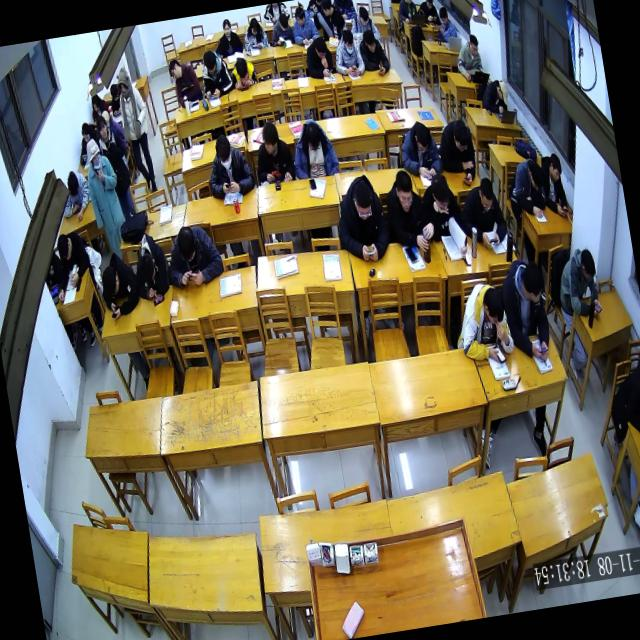bow: (160, 217, 227, 292), (92, 244, 142, 322), (126, 223, 174, 304), (502, 152, 552, 224), (58, 167, 96, 227), (477, 72, 513, 120), (227, 54, 259, 94)
down: (478, 280, 508, 328), (392, 168, 418, 216), (350, 179, 376, 226), (427, 168, 453, 214), (212, 132, 236, 173), (474, 173, 498, 214), (449, 116, 474, 154), (576, 244, 598, 286), (302, 120, 326, 156), (84, 136, 105, 176), (411, 120, 433, 156), (114, 64, 134, 101), (54, 231, 74, 266), (526, 160, 546, 193), (546, 149, 565, 183), (64, 170, 83, 200), (494, 76, 511, 108), (200, 48, 218, 78), (340, 28, 358, 58), (361, 26, 378, 56), (312, 35, 330, 62), (233, 56, 250, 82), (466, 32, 482, 59), (78, 121, 94, 147), (356, 4, 372, 30), (248, 15, 262, 38), (437, 5, 451, 28), (108, 81, 122, 102), (277, 11, 290, 32), (90, 93, 102, 114), (423, 0, 435, 11)
lookup: (94, 112, 111, 142), (220, 18, 234, 40), (401, 0, 415, 5)
sit: (494, 250, 558, 368), (446, 274, 520, 371), (112, 61, 161, 196), (329, 170, 394, 270), (78, 132, 130, 256), (378, 164, 438, 262), (416, 166, 472, 266), (454, 170, 512, 254), (94, 108, 136, 216), (551, 242, 605, 324), (200, 130, 258, 204), (286, 112, 342, 182), (48, 227, 98, 305), (432, 116, 481, 192), (249, 116, 299, 189), (601, 360, 640, 445), (394, 117, 444, 183), (536, 149, 572, 220), (165, 55, 206, 114), (195, 44, 236, 102), (328, 24, 367, 80), (355, 24, 392, 80), (452, 30, 486, 84), (346, 2, 383, 48), (302, 32, 336, 82), (287, 1, 322, 49), (310, 0, 349, 41), (210, 15, 245, 60), (431, 4, 460, 48), (239, 14, 270, 54), (267, 11, 297, 49), (393, 0, 421, 28), (415, 0, 442, 27), (88, 91, 110, 124), (106, 80, 125, 117)
